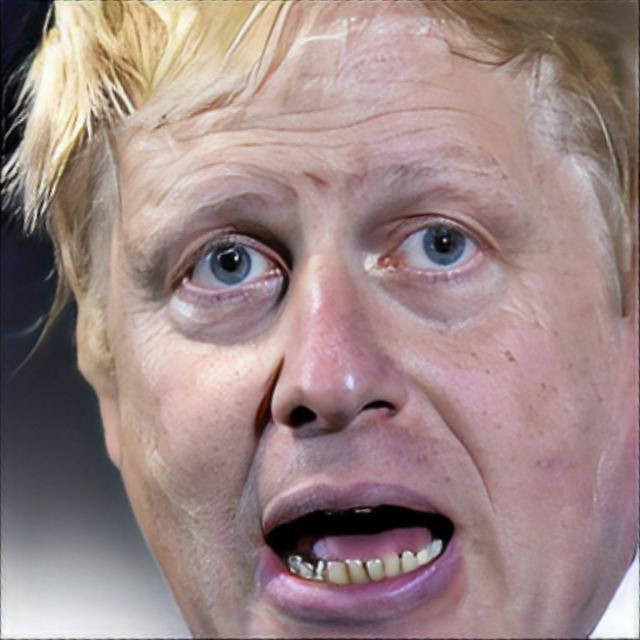fear: (104, 0, 626, 640)
